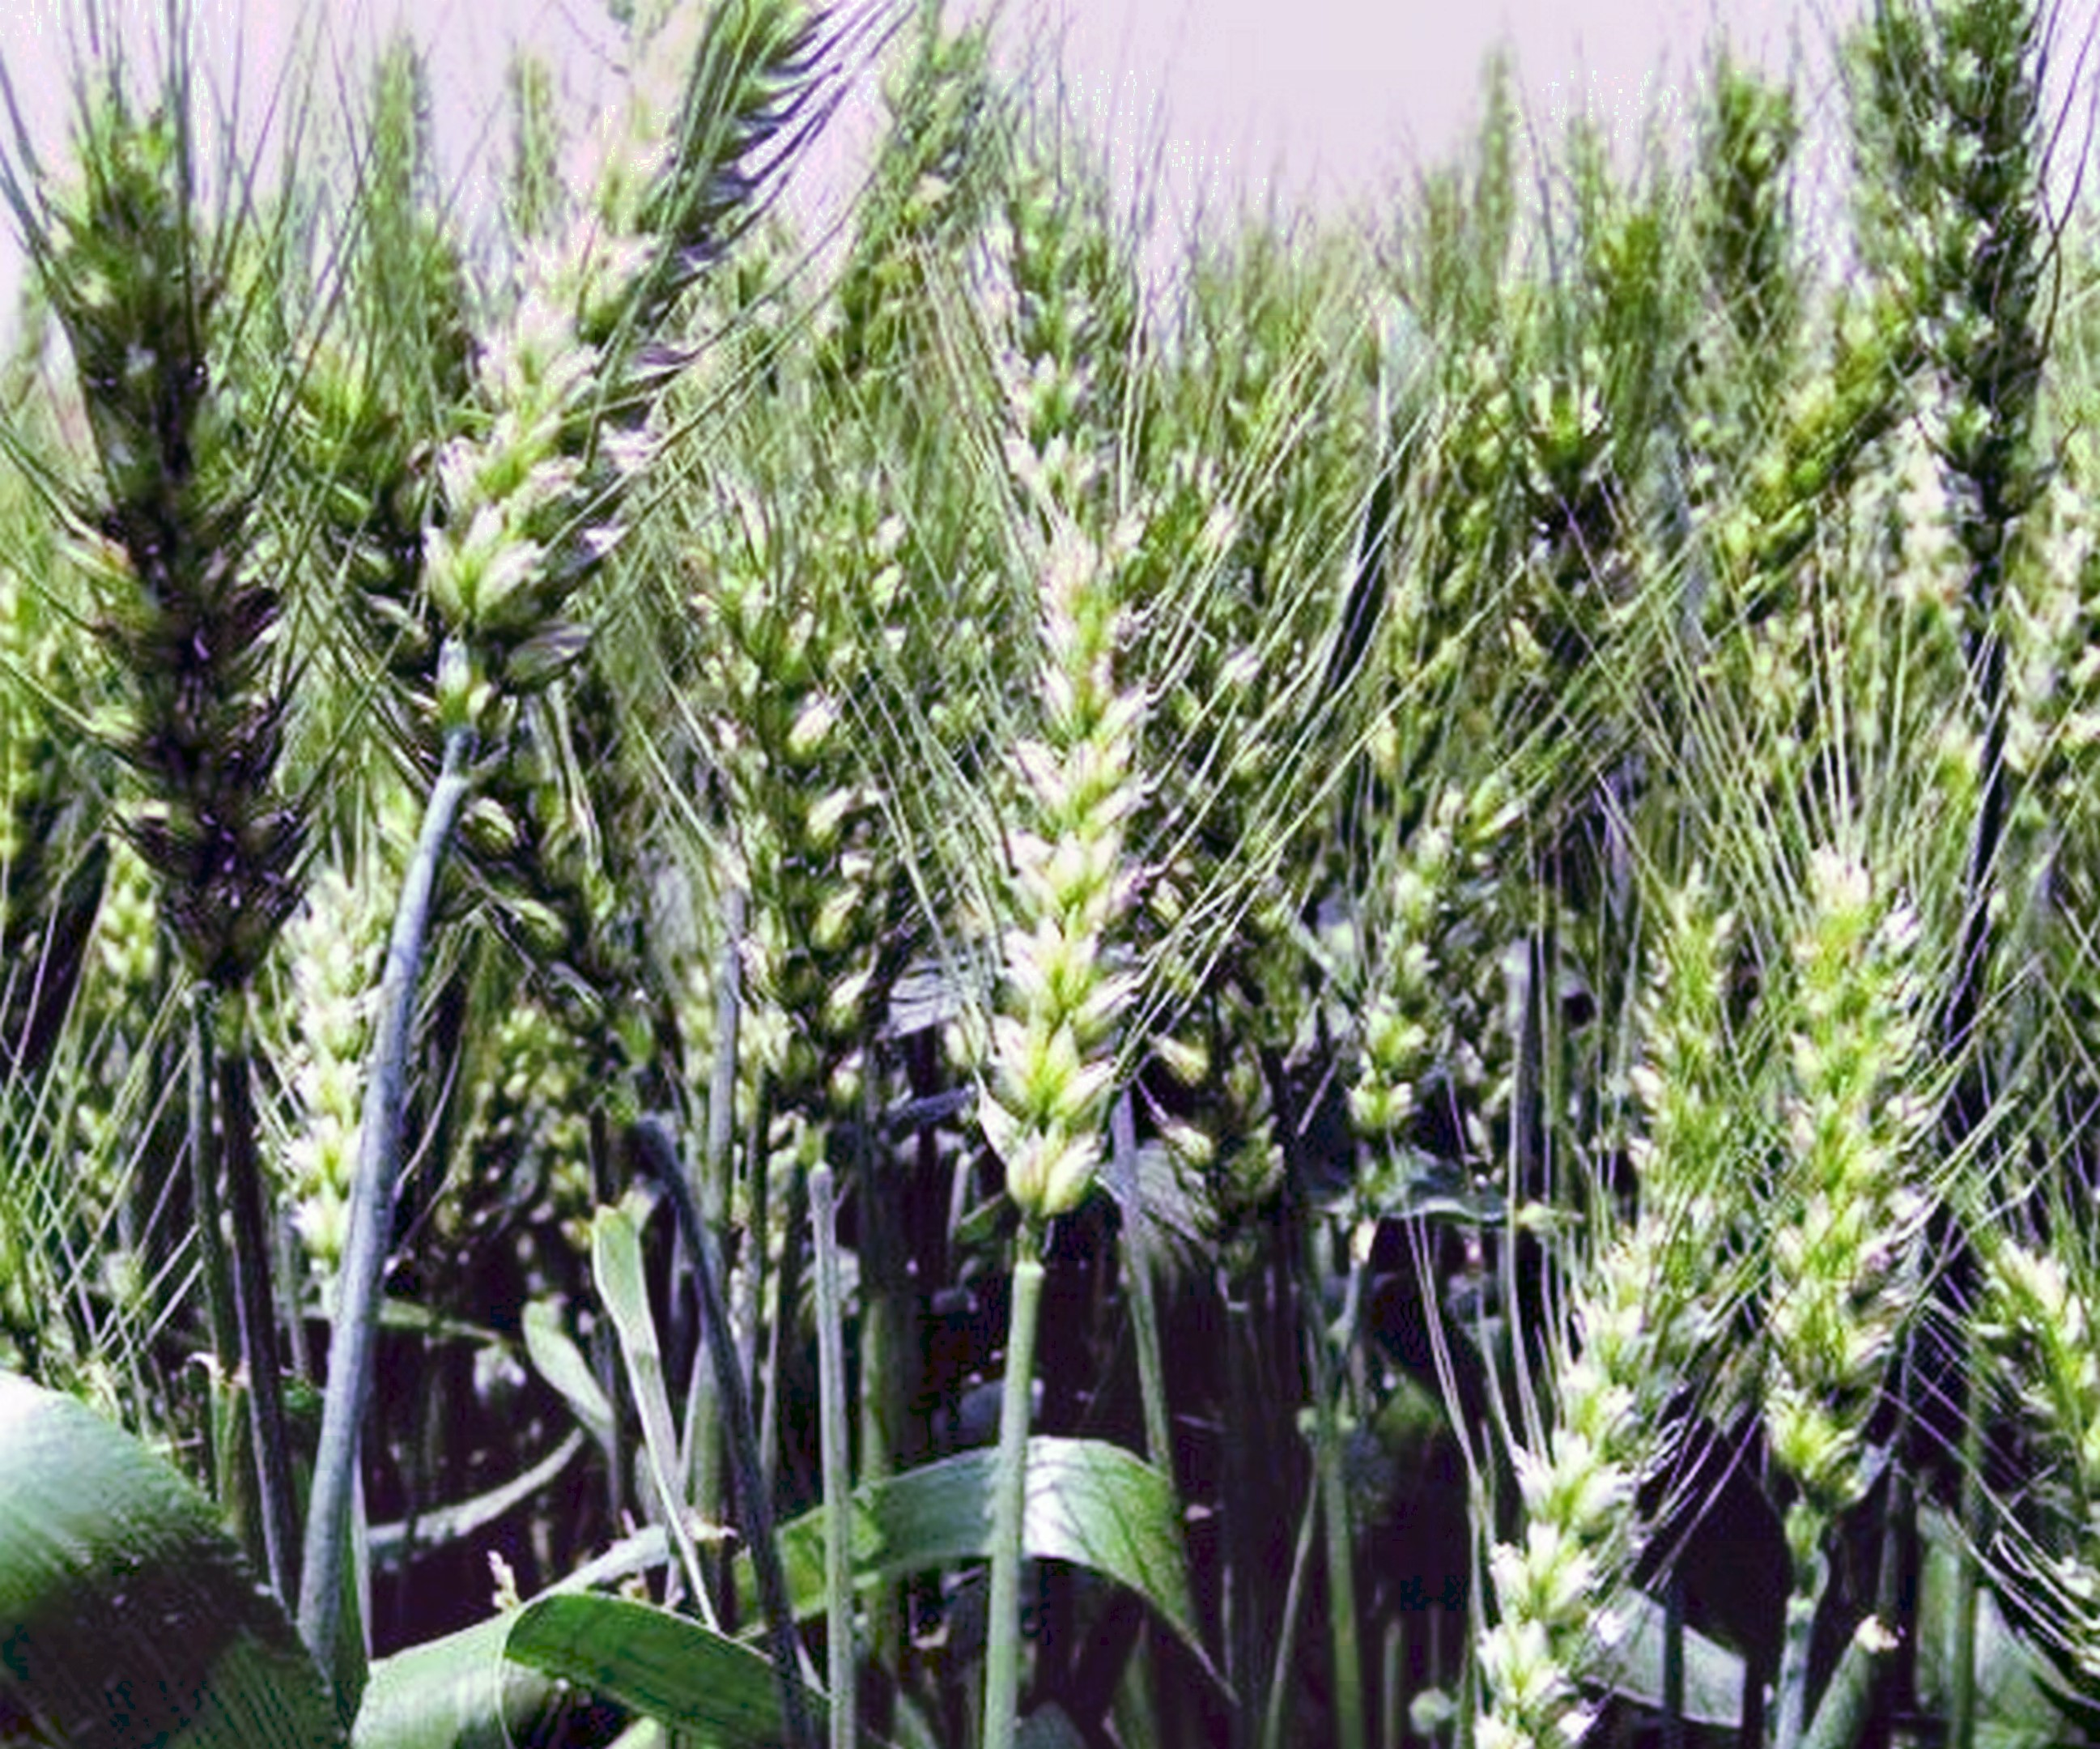Healthy Wheat: (952, 525, 1237, 1221)
